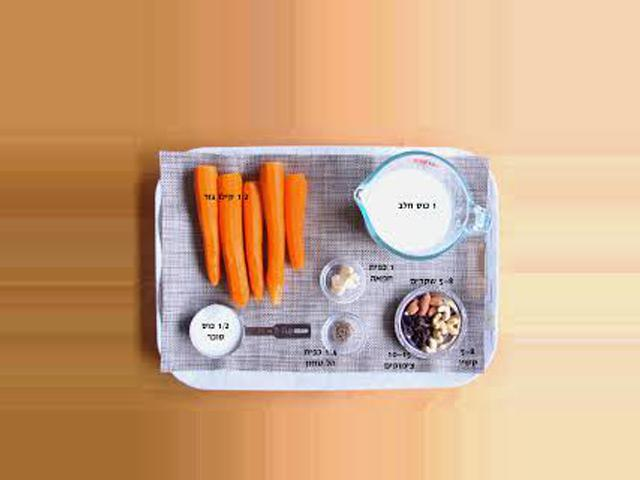carrot: (191, 163, 228, 288)
